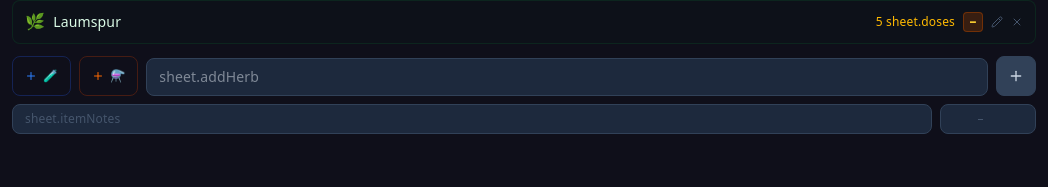
HerbPouchContent — edit form with maxDoses › pre-populates doses field from existing item
Click the button named "sheet.editItem" at (997, 22), box [991, 16, 1003, 28]
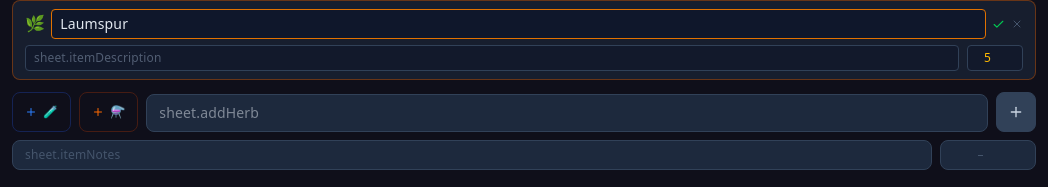
expect the number field titled "sheet.maxDoses" holds "5": met, box [967, 45, 1023, 71]
